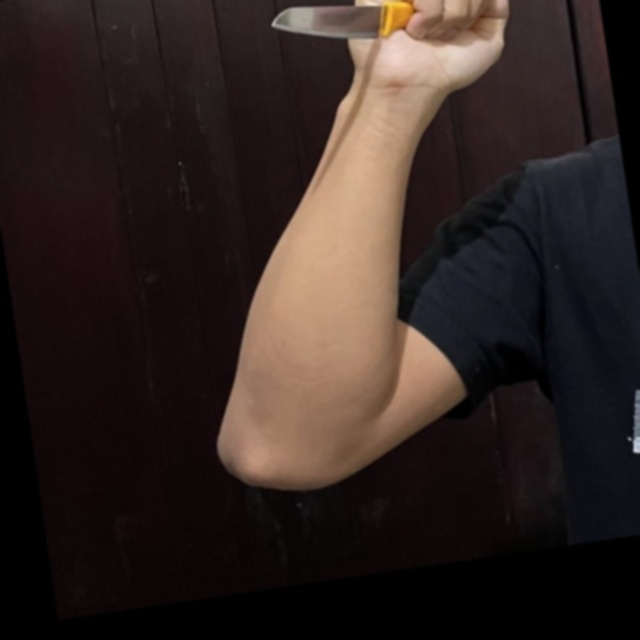Sharp-Object: (265, 0, 419, 57)
